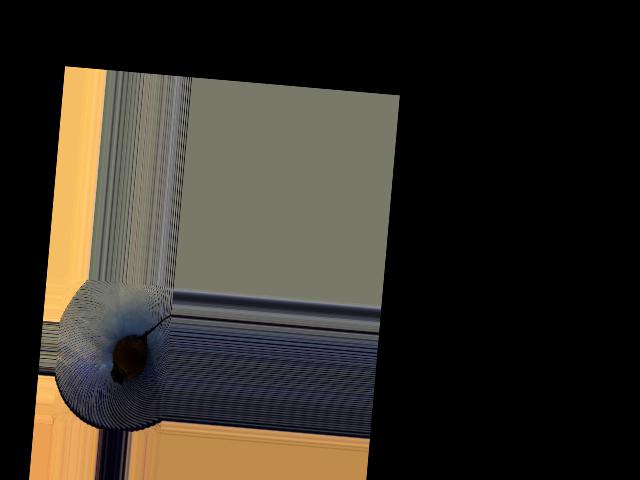beet: (110, 310, 172, 388)
